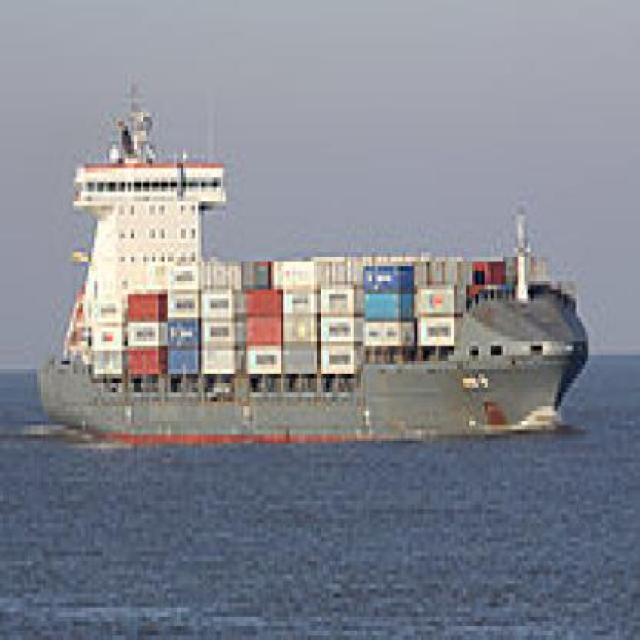container: (25, 85, 592, 449)
